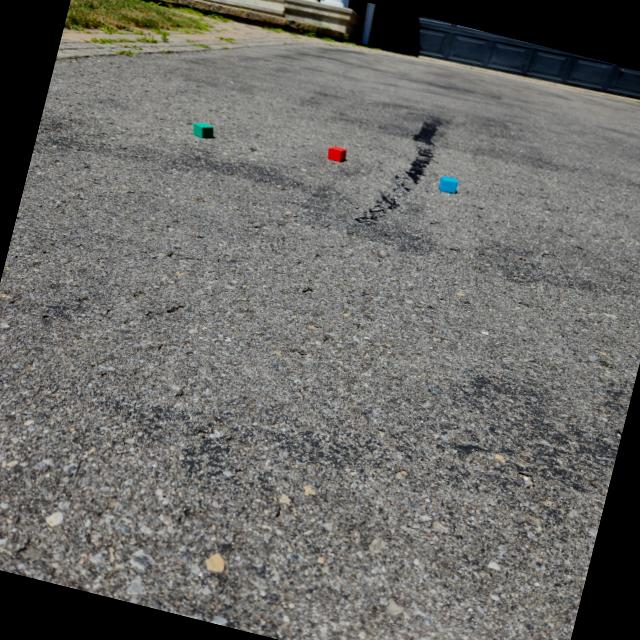bluecube: (438, 175, 457, 193)
green cube: (193, 122, 213, 138)
red cube: (327, 145, 346, 161)
